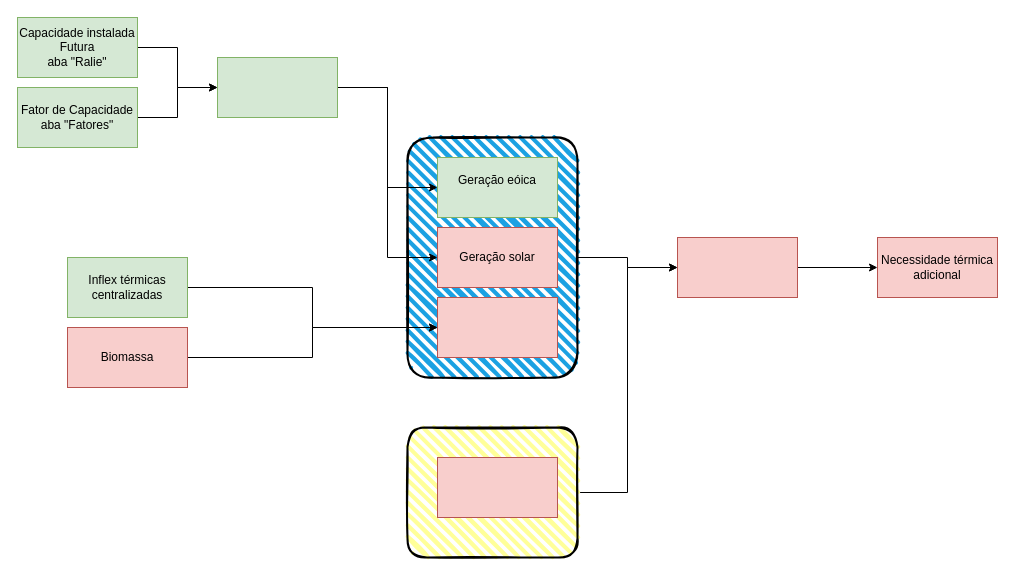
Image size: 1015x576. Some labels were removed from this diagram. The box of each missing label's shape, as (x1, y1, x2, y2) in pixels:
Calculo do balanço de potencia: (676, 236, 798, 298)
Carga: (436, 456, 558, 518)
Geração inflexivel: (436, 296, 558, 358)
Multiplicação para encontrar a geração esperada: (216, 56, 338, 118)
